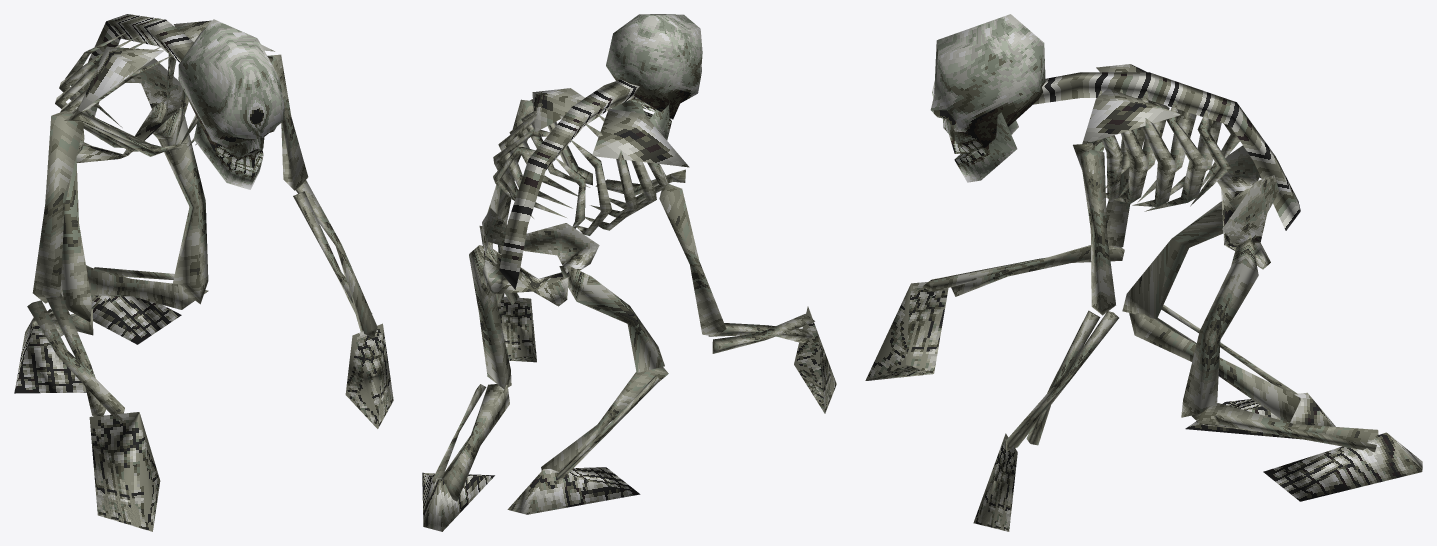
File: attack.fbx
3 renders of one model, left to right at view 1: azimuth 30°, elevation 25°; view 2: azimuth 150°, elevation 25°; view 3: azimuth 270°, elevation 25°, orthographic. The views are drawn at different scales.
Parts seen in each view (by area): view 1: giantapeskeleton; view 2: giantapeskeleton; view 3: giantapeskeleton.
Part boxes in pixels (<box>): giantapeskeleton: <box>14,14,393,531</box>; giantapeskeleton: <box>422,14,836,531</box>; giantapeskeleton: <box>865,14,1422,531</box>.
Bounding box in the file's own units: 923 × 1144 × 1322.
3 materials, 3 textured.
